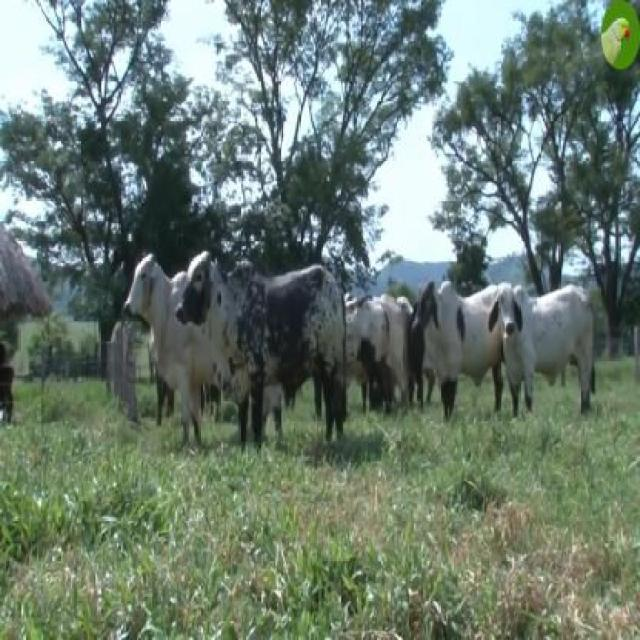Cow: (182, 246, 346, 457), (494, 280, 594, 412)
